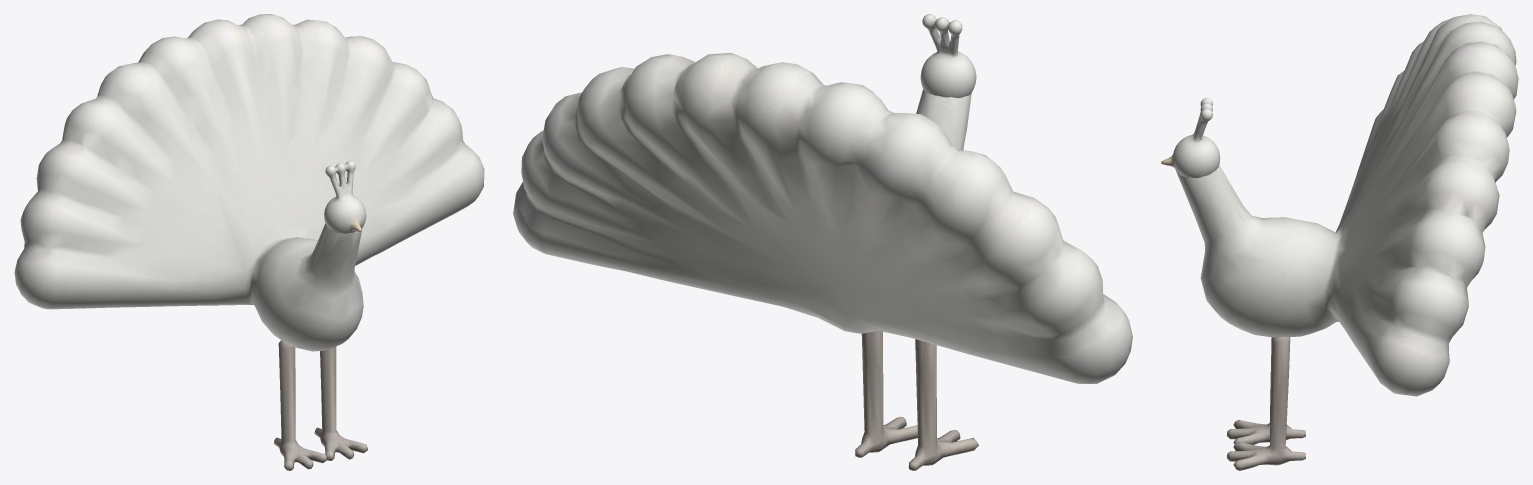
Rendered from animal_white_peacock.glb.
The picture shows the model from 3 angles, left to right: view 1: azimuth 30°, elevation 25°; view 2: azimuth 150°, elevation 25°; view 3: azimuth 270°, elevation 25°; orthographic projection. The views are drawn at different scales.
Visible parts, largest first — view 1: animal_white_peacock, leg0, leg1, head; view 2: animal_white_peacock, leg0, leg1, head; view 3: animal_white_peacock, leg1, head, leg0.
Boxes of the visible parts, bbox=[...] form: animal_white_peacock: bbox=[14, 14, 484, 351]; leg0: bbox=[274, 340, 327, 470]; leg1: bbox=[314, 347, 367, 460]; head: bbox=[324, 161, 366, 233]; animal_white_peacock: bbox=[513, 52, 1132, 384]; leg0: bbox=[908, 339, 978, 470]; leg1: bbox=[855, 330, 917, 457]; head: bbox=[920, 14, 976, 97]; animal_white_peacock: bbox=[1176, 14, 1518, 396]; leg1: bbox=[1226, 336, 1305, 470]; head: bbox=[1161, 98, 1220, 177]; leg0: bbox=[1226, 337, 1305, 444].
Bounding box in the file's own units: 0.634 × 0.4769 × 0.3793.
1 material, 1 textured.
